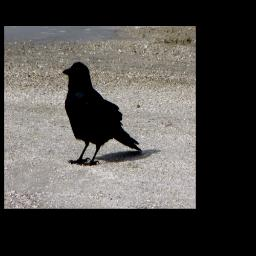Crow: (60, 60, 144, 167)
